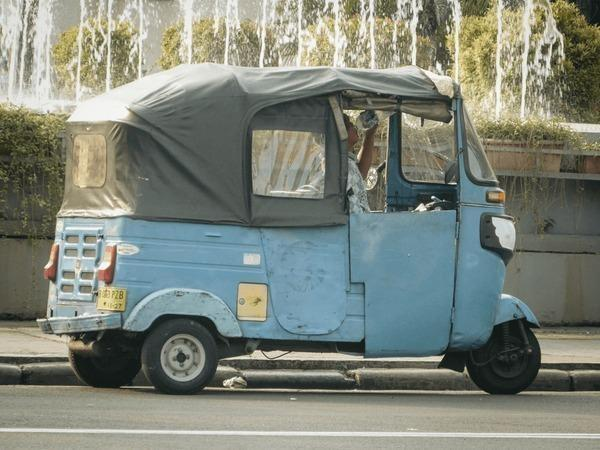keke: (50, 62, 548, 401)
